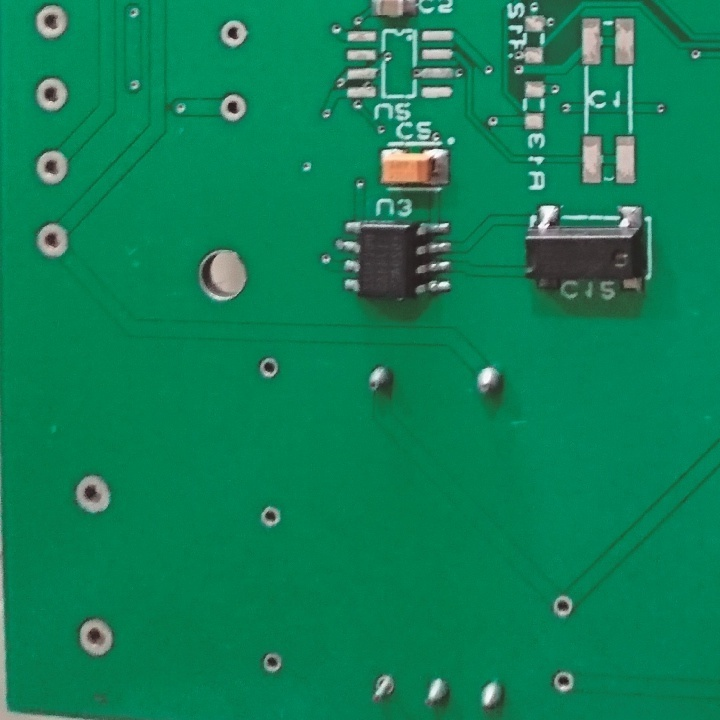F: (71, 471, 115, 518), (76, 613, 116, 662), (29, 3, 73, 43), (34, 219, 73, 263), (32, 148, 73, 187), (32, 75, 70, 115), (216, 89, 249, 126), (217, 17, 250, 49), (367, 672, 397, 705), (552, 665, 575, 697), (551, 593, 576, 621), (258, 502, 281, 532), (257, 354, 280, 381), (260, 652, 282, 676)
